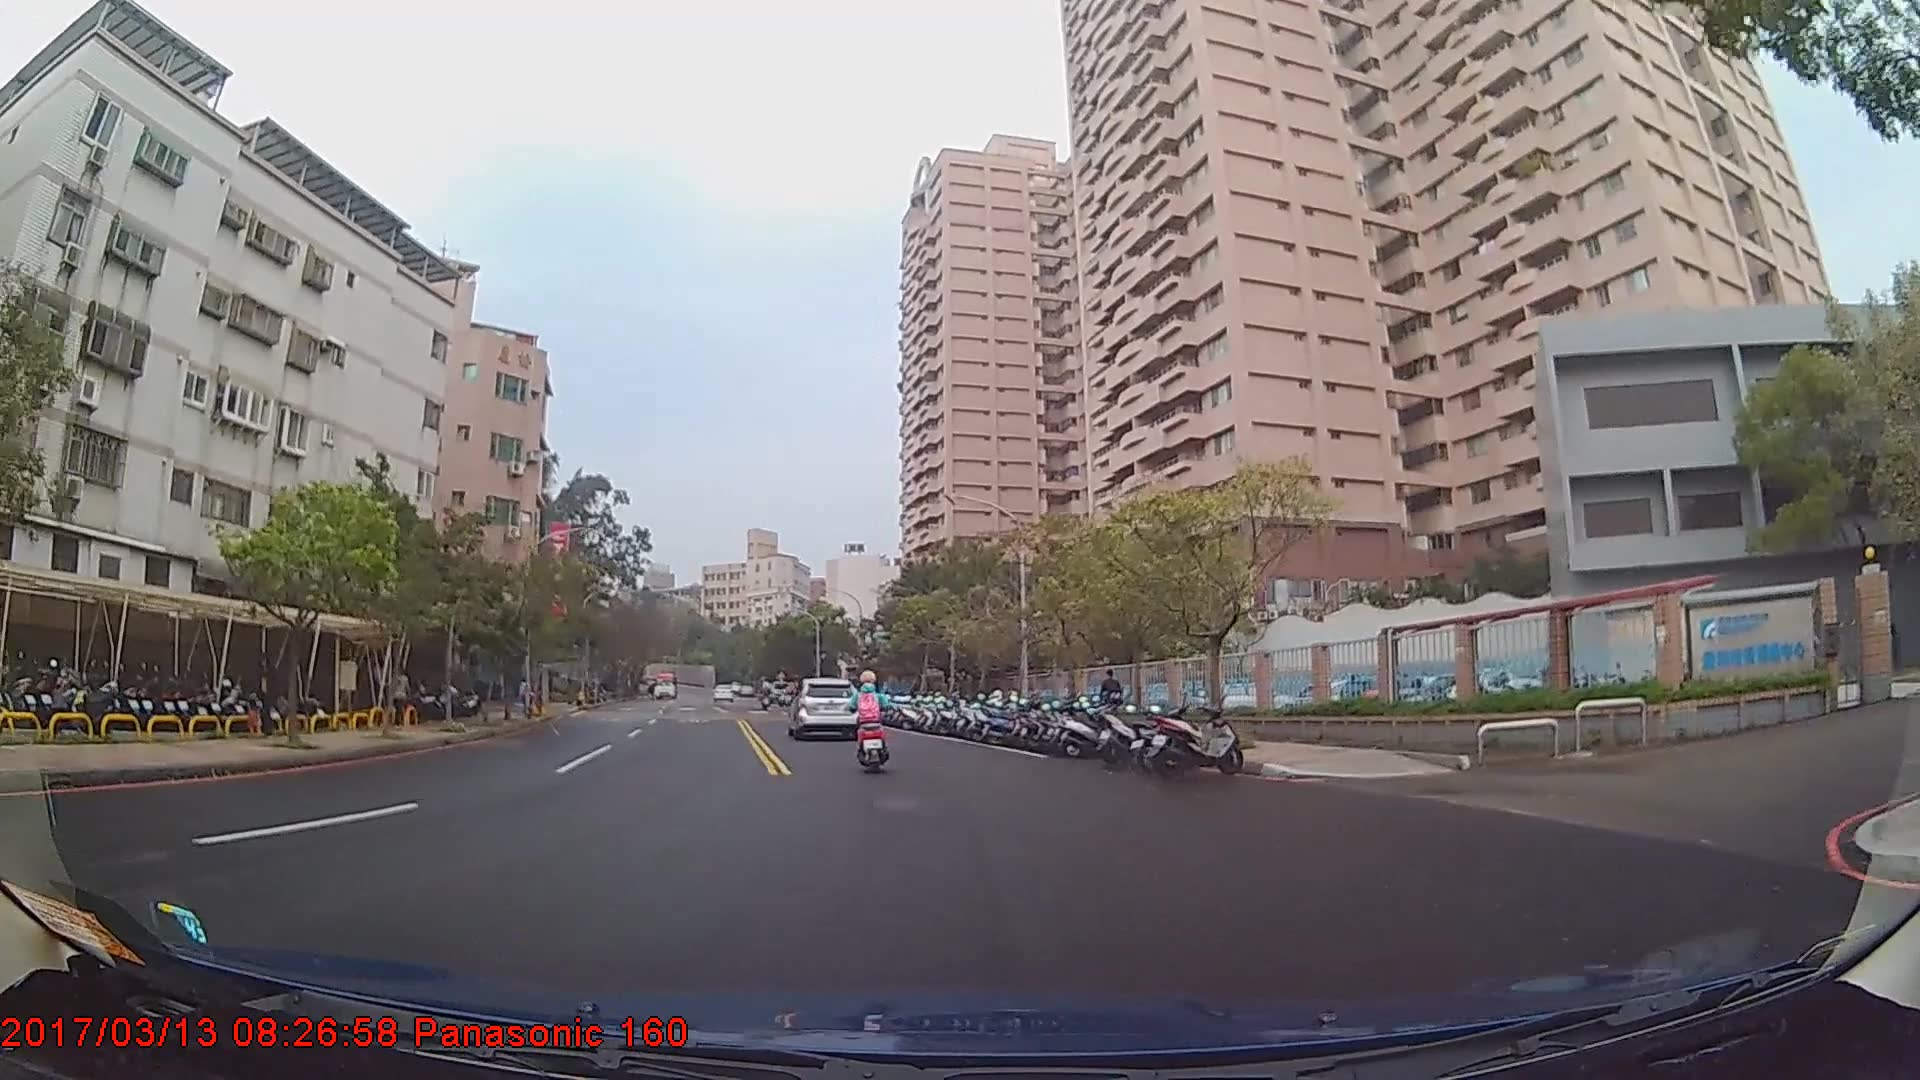pedestrian: (255, 654, 282, 740), (389, 662, 413, 732), (1101, 670, 1125, 733)
rider: (851, 669, 893, 769)
vehicle: (788, 677, 860, 739), (649, 672, 679, 701)
